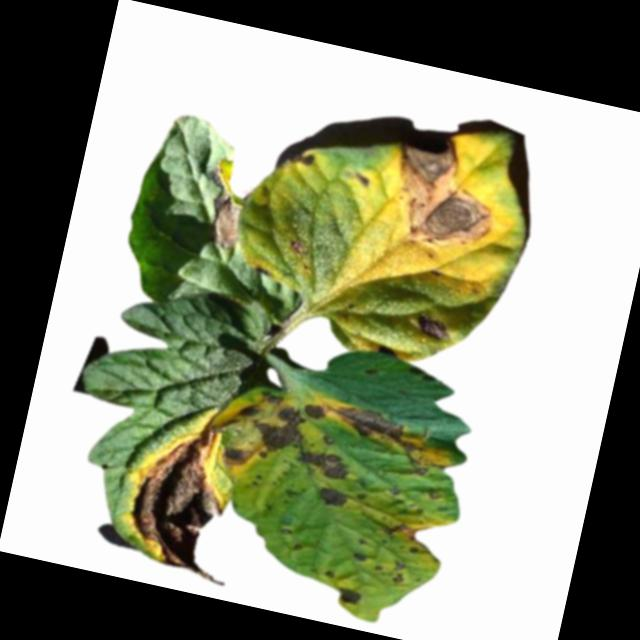Early_blight: (112, 415, 258, 590), (377, 127, 517, 266), (325, 401, 455, 479), (230, 383, 309, 463), (200, 156, 255, 254), (410, 306, 457, 348), (297, 450, 349, 484), (278, 148, 320, 181), (329, 583, 367, 612), (315, 483, 349, 514), (383, 520, 418, 545), (303, 398, 328, 426), (388, 559, 409, 587), (285, 237, 311, 259), (351, 171, 374, 190), (354, 550, 370, 567)
